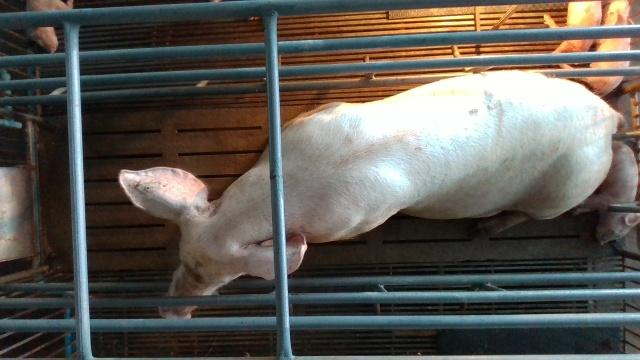piglet: (560, 0, 632, 95), (576, 141, 640, 246), (545, 0, 602, 55), (26, 0, 73, 54)
sow-sit: (119, 72, 618, 319)
